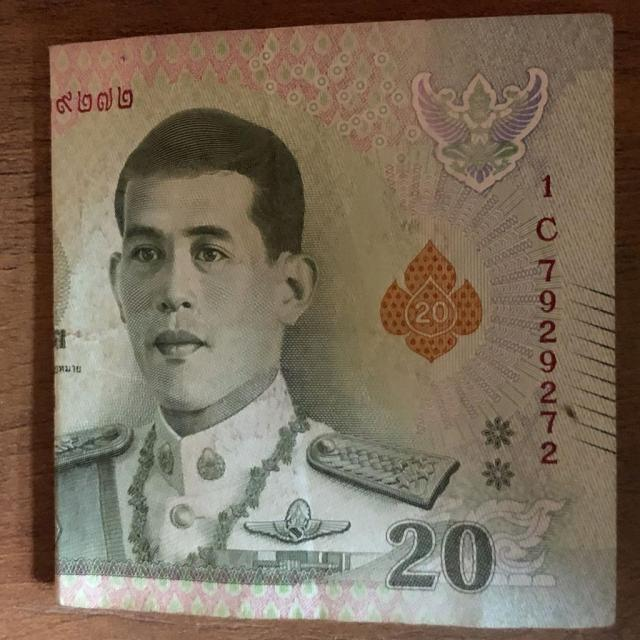THAI20: (50, 15, 616, 628)
